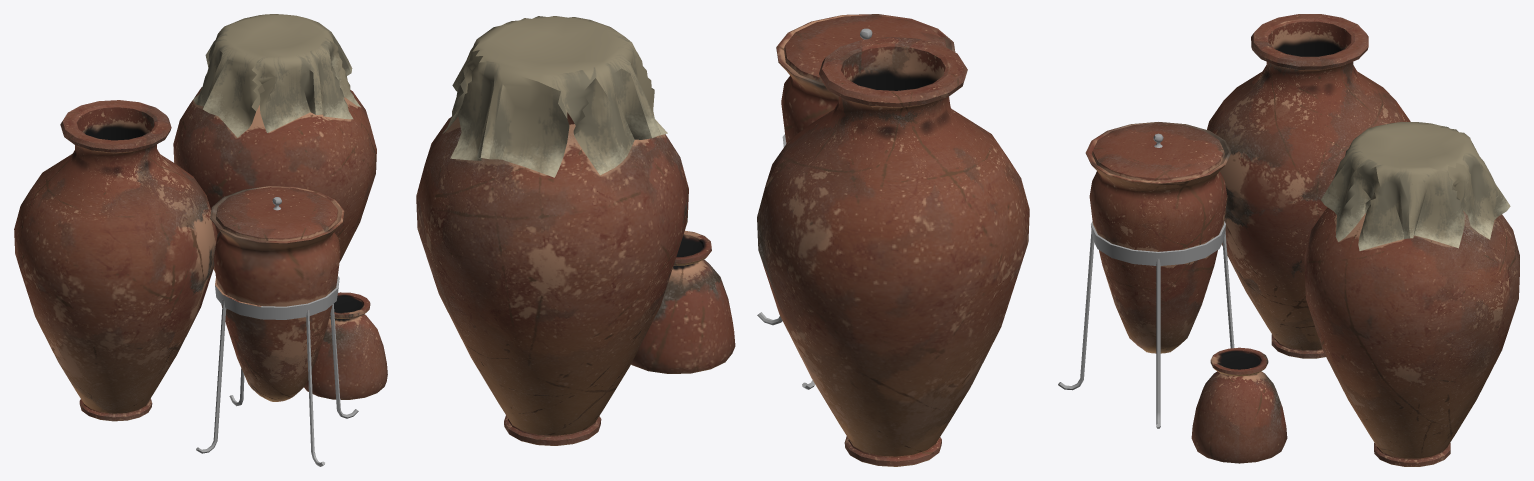
The model's file is clay_ancient_props_game_ready_for_unity_urp.glb.
3 views of the same model, side by side, from view 1: azimuth 30°, elevation 25°; view 2: azimuth 150°, elevation 25°; view 3: azimuth 270°, elevation 25° (orthographic). The views are drawn at different scales.
Visible parts, largest first — view 1: Cube.002; view 2: Cube.002; view 3: Cube.002.
Part boxes in pixels (x1,y1,x2,y2): Cube.002: (14, 14, 387, 466); Cube.002: (416, 14, 1029, 466); Cube.002: (1058, 14, 1519, 466).
Size of the model in its own units: 3.69 by 2.66 by 3.61.
1 material, 1 textured.
